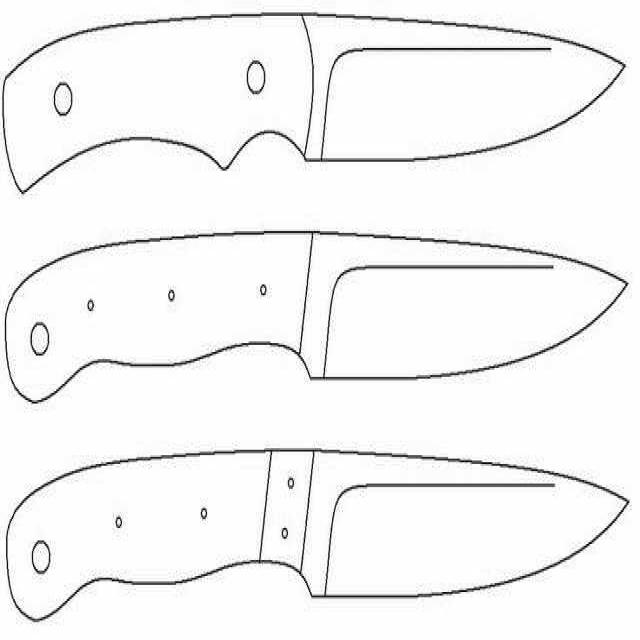weapon: (0, 0, 640, 210)
